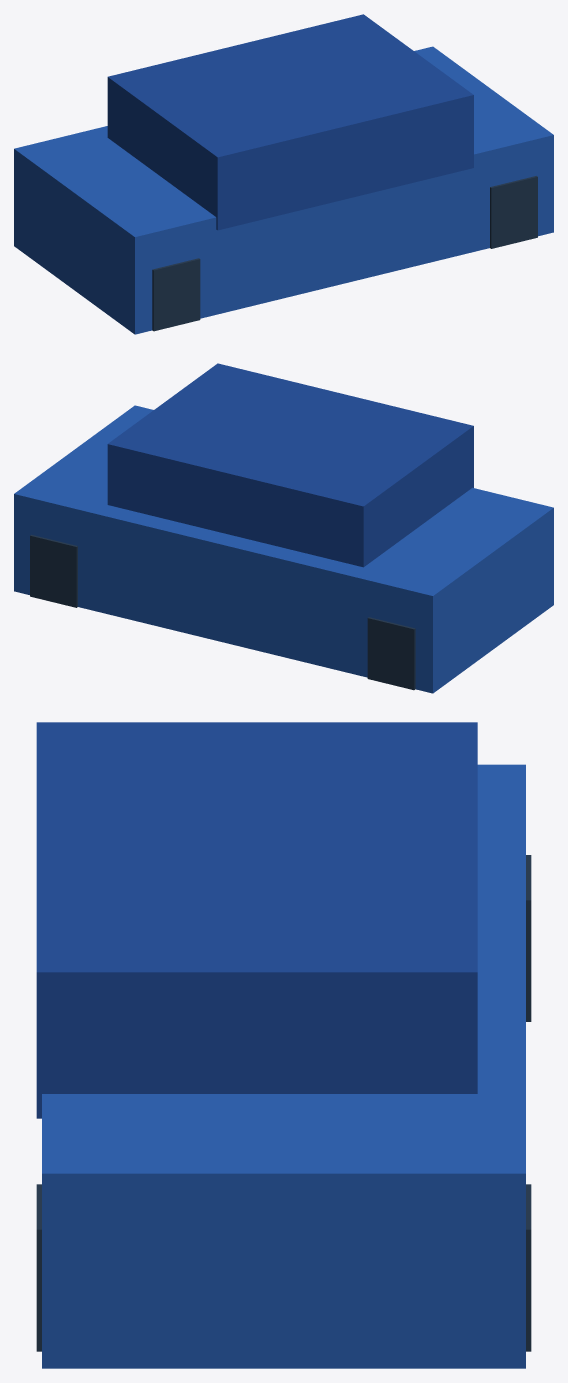
The model's file is car.glb.
The picture shows the model from 3 angles, top to bottom: view 1: azimuth 30°, elevation 25°; view 2: azimuth 150°, elevation 25°; view 3: azimuth 270°, elevation 25°; orthographic projection. The views are drawn at different scales.
Size of the model in its own units: 3.6 by 1.3 by 1.84.
